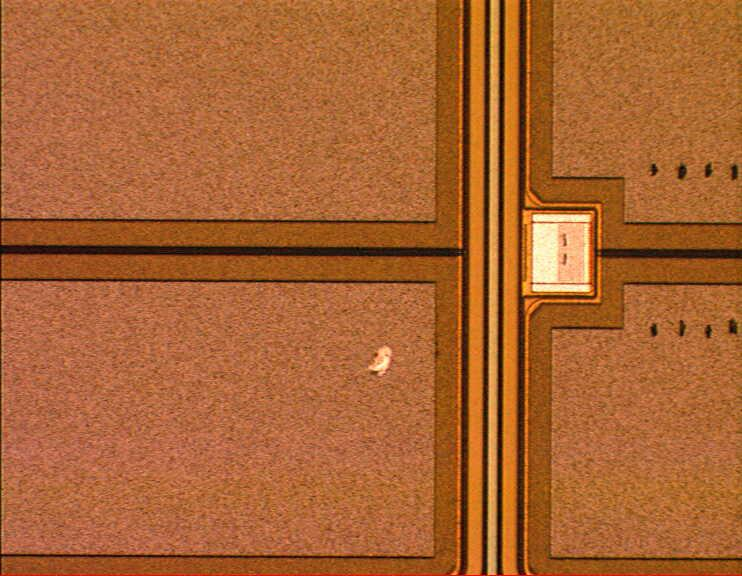SCRATCH: (339, 332, 430, 400)
